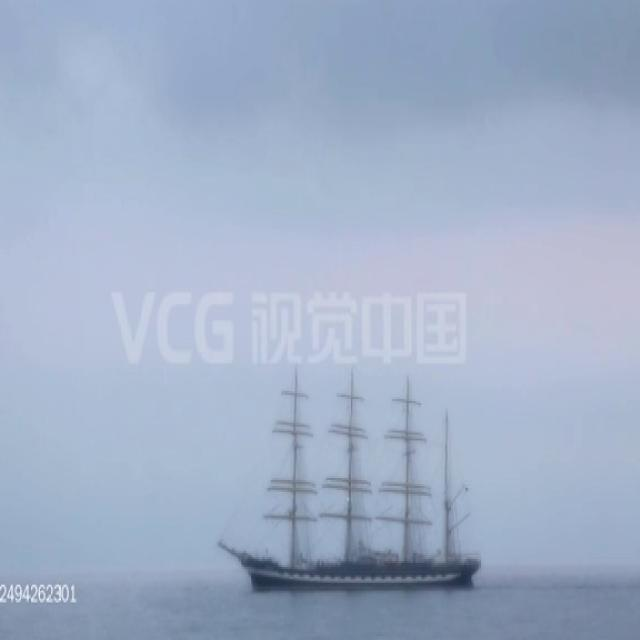sailboat: (215, 367, 482, 594)
